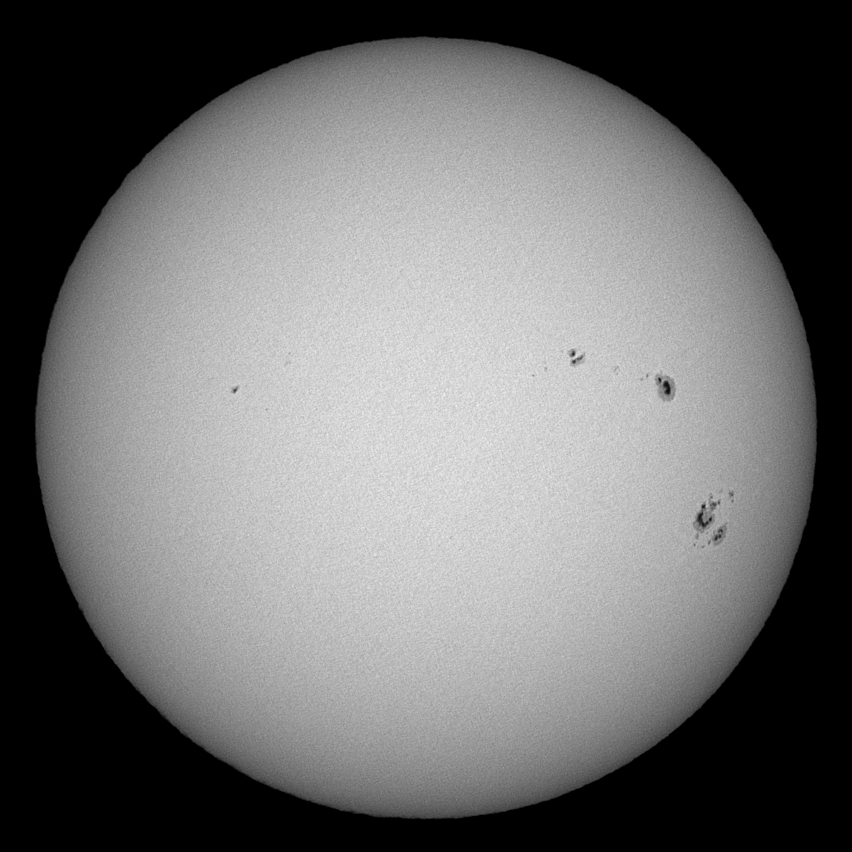sunspot: (688, 485, 737, 551), (651, 370, 679, 402), (565, 344, 588, 368), (227, 381, 242, 396)
